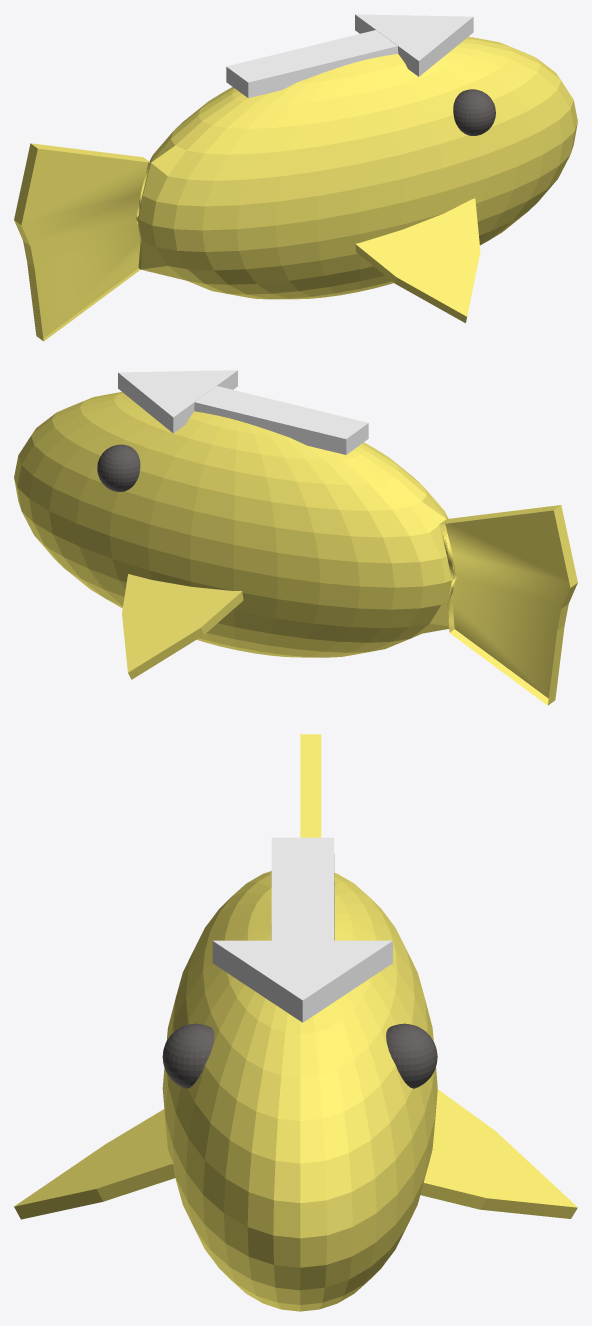
File: MidFishYellow.fbx
3 views of the same model, one above another, from view 1: azimuth 30°, elevation 25°; view 2: azimuth 150°, elevation 25°; view 3: azimuth 270°, elevation 25° (orthographic). The views are drawn at different scales.
Parts seen in each view (by area): view 1: Сфера.004; view 2: Сфера.004; view 3: Сфера.004.
Part boxes in pixels (x1,y1,x2,y2): Сфера.004: [14, 14, 577, 341]; Сфера.004: [14, 370, 577, 705]; Сфера.004: [14, 734, 577, 1311].
Size of the model in its own units: 508 by 209 by 318.
